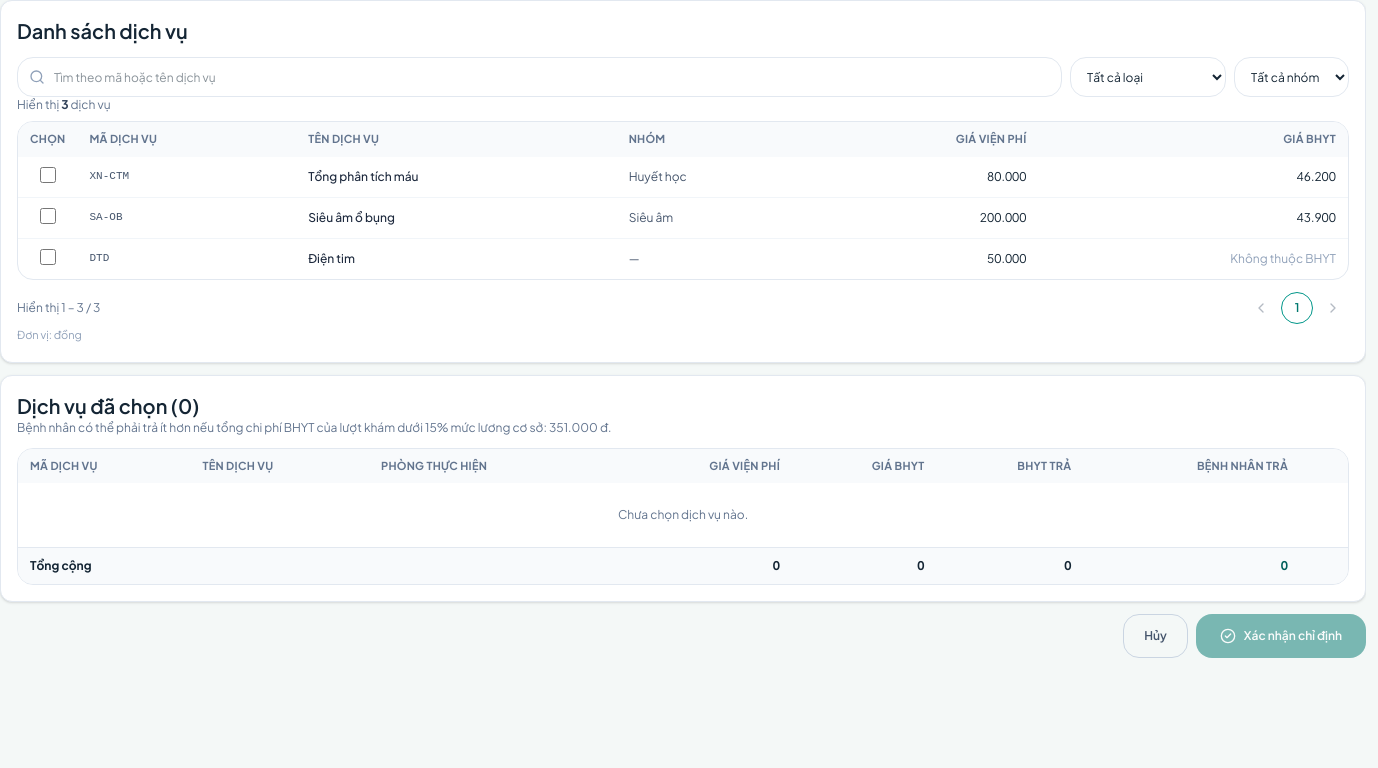
Test: ParaclinicalOrderPanel (UC-49) › splits the insurance and patient amounts for an insured visit (step 4, BR-27)
The image size is (1378, 768).
Click the checkbox named "Chọn Siêu âm ổ bụng" at (48, 216), box [40,208,56,224]
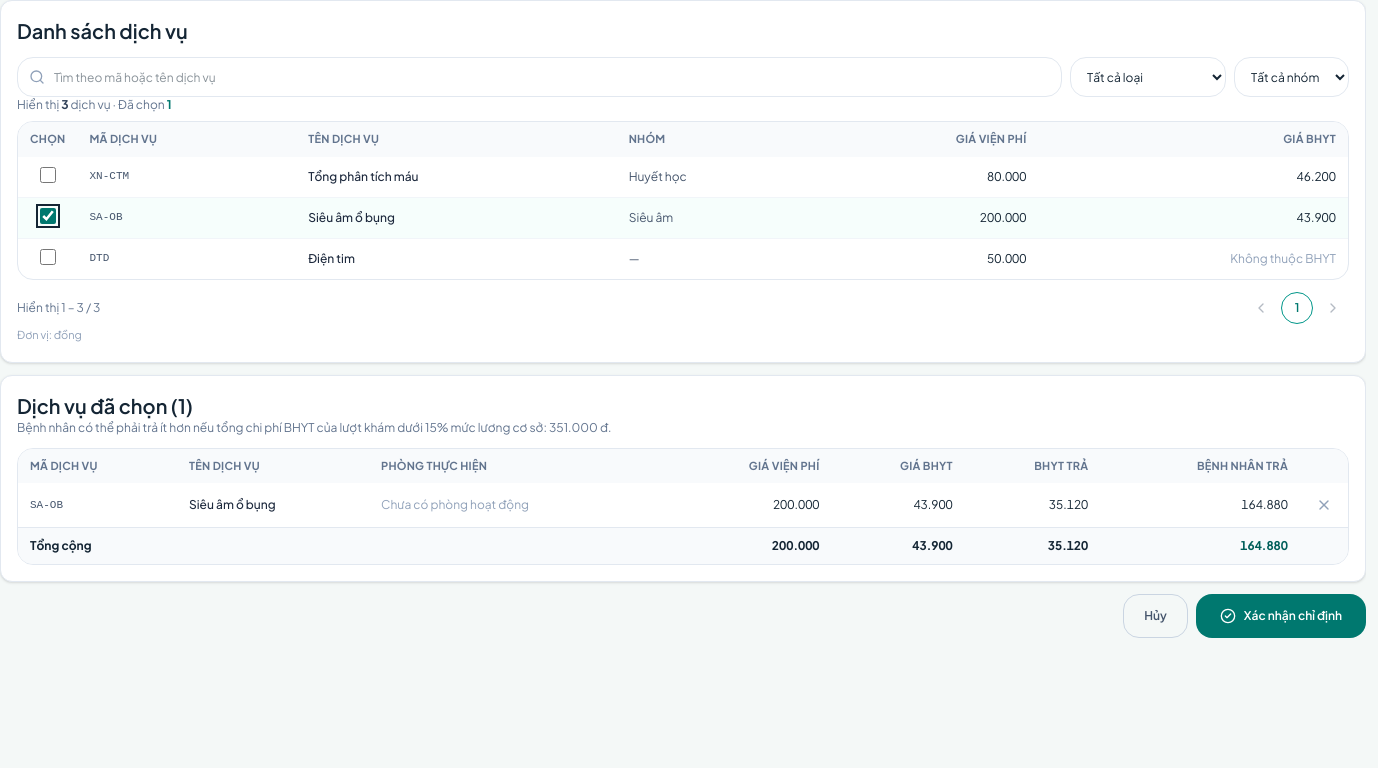
Click the checkbox named "Chọn Điện tim" at (48, 257), box [40,249,56,265]
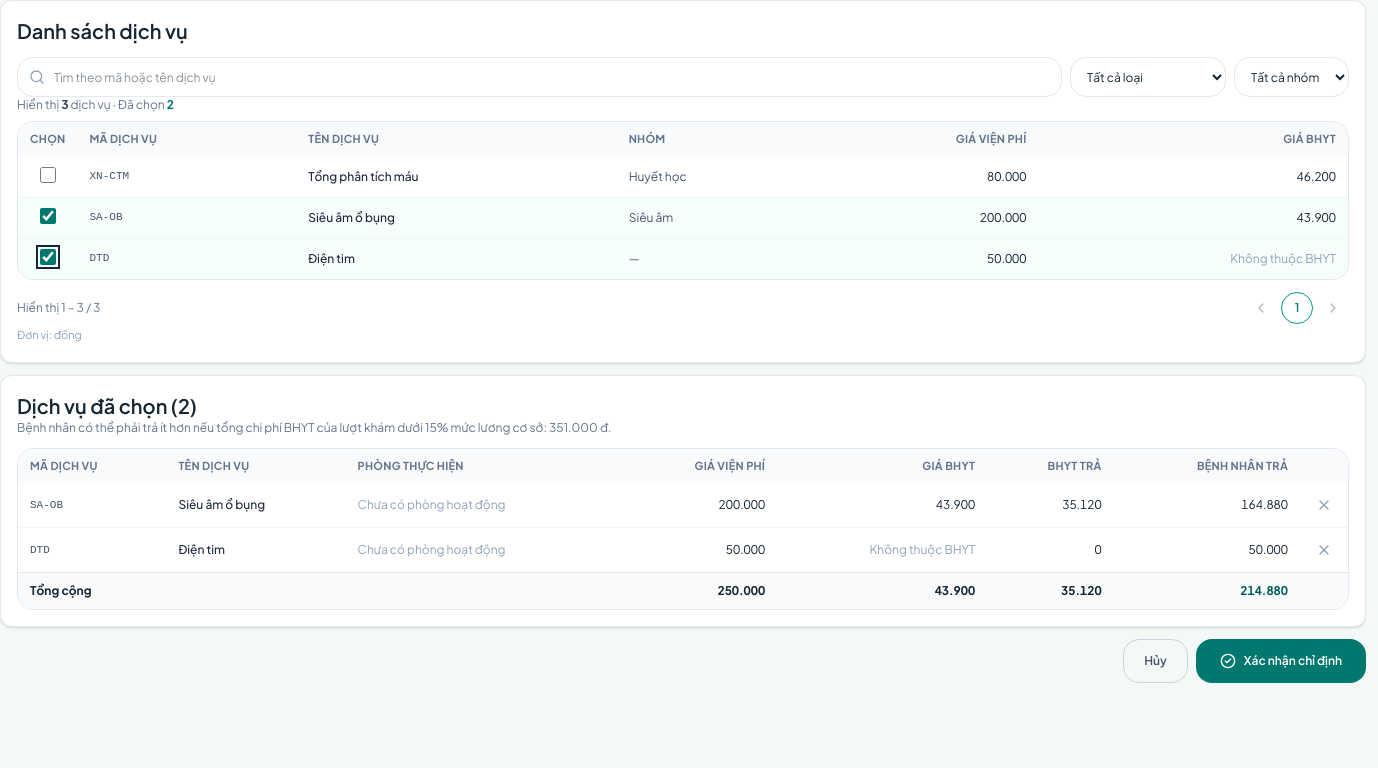
Expected: the column heading "BHYT trả" is shown, [987,449,1114,483]
Now the cell with test id "cls-insurance-total" reads "35.120", box [1061,583,1102,598]
Now the cell with test id "cls-total" reads "214.880", box [1240,583,1288,598]
